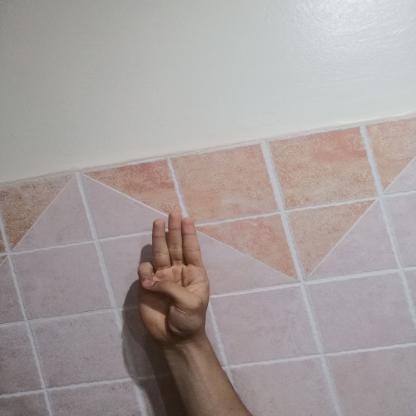THA: (118, 204, 224, 354)
